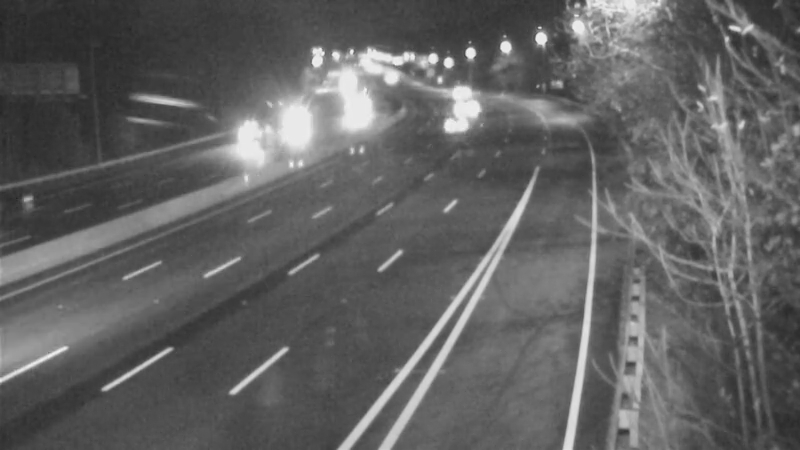vehicle: (1, 164, 66, 244), (429, 66, 479, 116), (447, 85, 497, 135), (432, 103, 482, 153), (224, 111, 274, 161), (276, 102, 326, 152), (322, 93, 372, 143)
